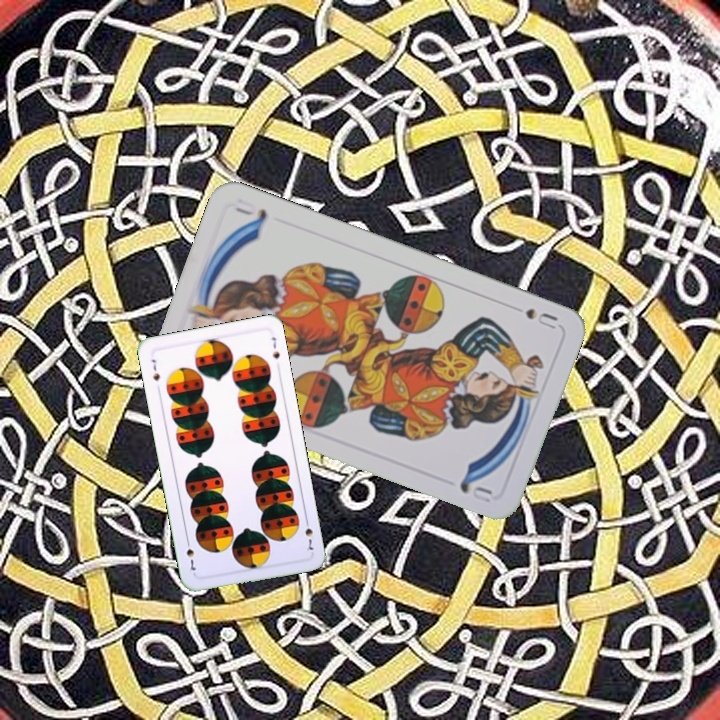S7: (301, 514, 316, 553), (147, 355, 162, 383)
SU: (521, 304, 560, 332)
